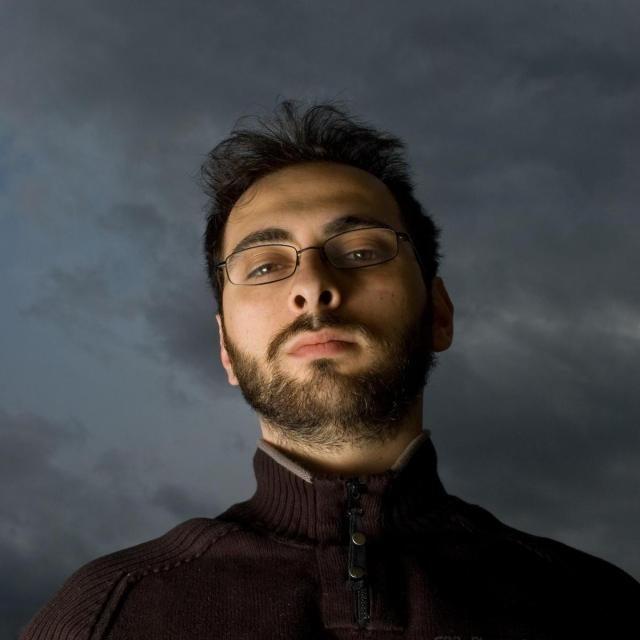no-glass: (248, 245, 378, 281)
